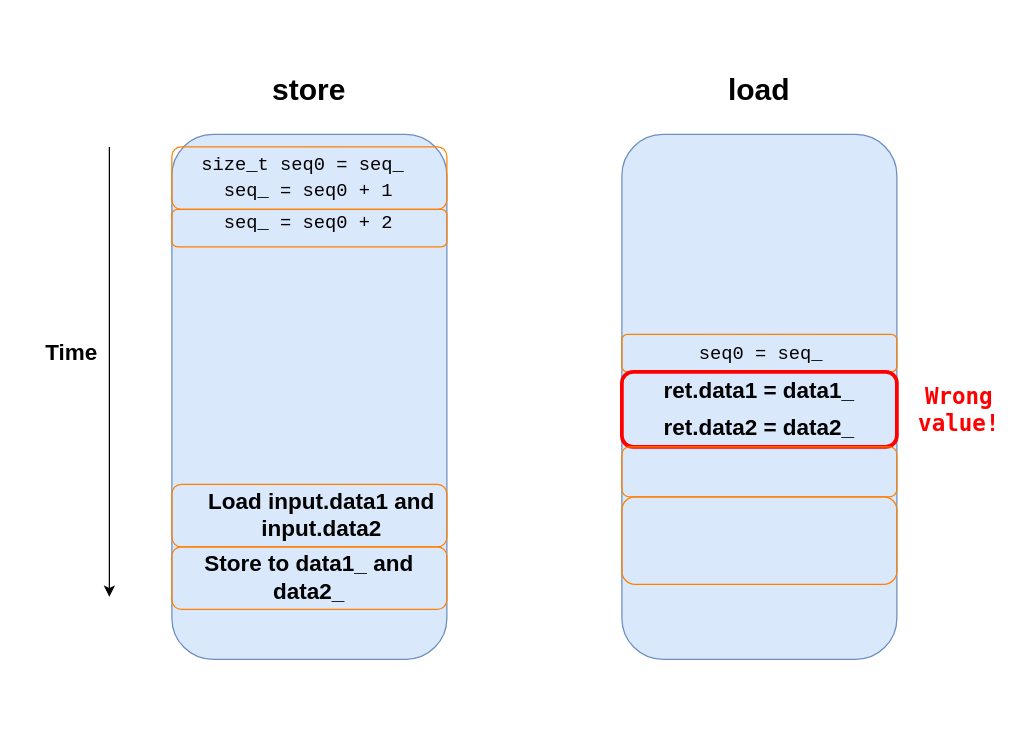
The diagram is 1030 pixels wide and 743 high, and some of its shapes have lost their labels. Each missing label, with the centre of its shape:
"Now (seq0 == seq1) and (seq0 & 1 == 0), end the loop" goes at point (759, 540).
"seq1 = seq_" goes at point (759, 471).
